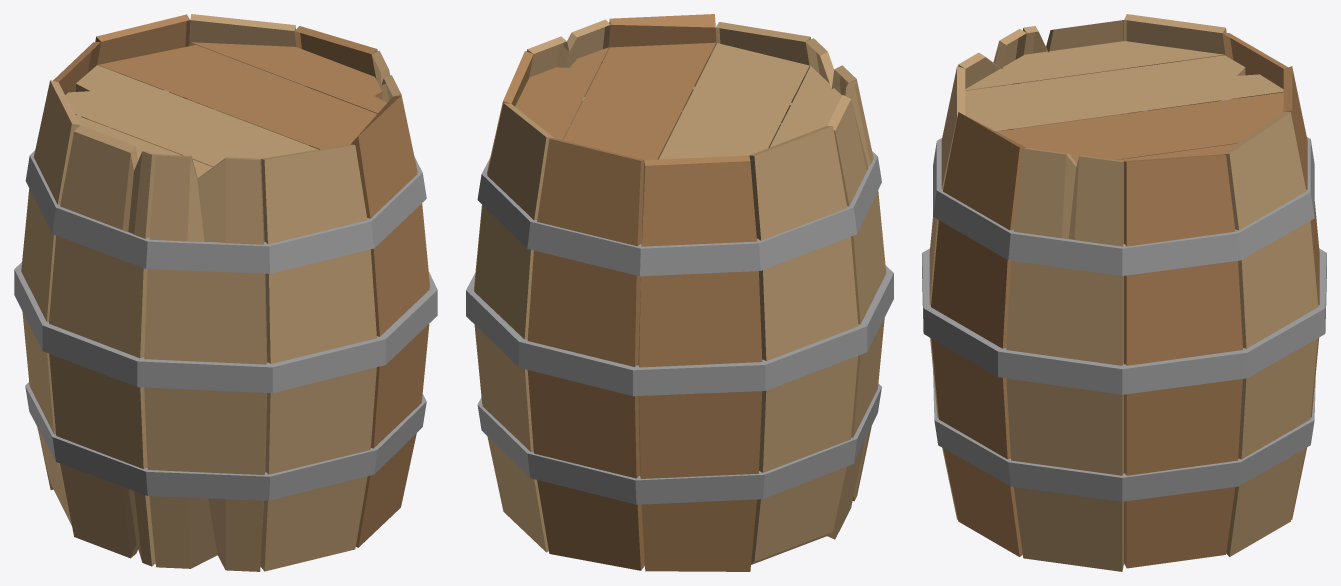
File: barrel.fbx
3 renders of one model, left to right at view 1: azimuth 30°, elevation 25°; view 2: azimuth 150°, elevation 25°; view 3: azimuth 270°, elevation 25°, orthographic.
Visible parts, largest first — view 1: barrel; view 2: barrel; view 3: barrel.
Boxes of the visible parts, x1,y1,x2,y2 form: barrel: [14, 14, 437, 571]; barrel: [466, 14, 893, 571]; barrel: [922, 14, 1326, 571].
Size of the model in its own units: 93.91 by 100 by 89.62.
